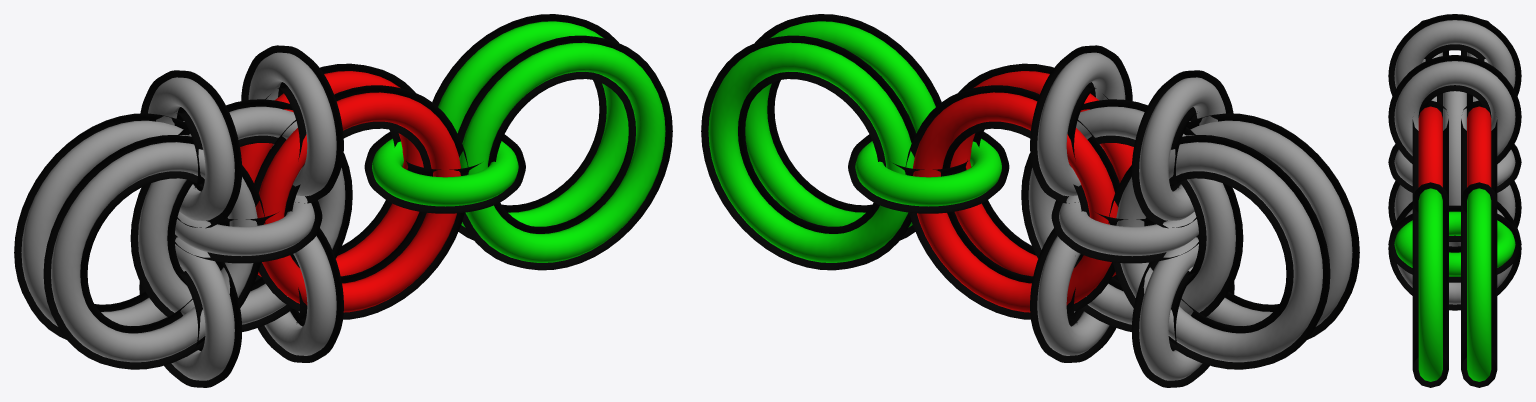
The model's file is heltic_step_04.glb.
3 views of the same model, side by side, from view 1: azimuth 30°, elevation 25°; view 2: azimuth 150°, elevation 25°; view 3: azimuth 270°, elevation 25° (orthographic). The views are drawn at different scales.
Parts seen in each view (by area): view 1: Torus.012, Torus.003, Torus.004, Torus.008, Torus.013, Torus.002, Torus.006, Torus.005, Torus.011, Torus.009, Torus.001, Torus.010 (+1 smaller); view 2: Torus.013, Torus.002, Torus.001, Torus.008, Torus.012, Torus.003, Torus.006, Torus.005, Torus.011, Torus.009, Torus.004, Torus.010 (+1 smaller); view 3: Torus.012, Torus.013, Torus.005, Torus.006, Torus.011, Torus.001, Torus.004, Torus.008, Torus.010, Torus.007, Torus.009.
Boxes of the visible parts, left/top/right/bottom form: Torus.012: left=457, top=35, right=672, bottom=270; Torus.003: left=43, top=135, right=265, bottom=369; Torus.004: left=254, top=85, right=468, bottom=319; Torus.008: left=130, top=99, right=352, bottom=331; Torus.013: left=432, top=14, right=628, bottom=240; Torus.002: left=14, top=113, right=187, bottom=339; Torus.006: left=140, top=70, right=242, bottom=228; Torus.005: left=241, top=45, right=343, bottom=203; Torus.011: left=364, top=132, right=525, bottom=213; Torus.009: left=139, top=237, right=242, bottom=387; Torus.001: left=240, top=63, right=423, bottom=280; Torus.010: left=257, top=228, right=343, bottom=362; Torus.013: left=701, top=35, right=916, bottom=270; Torus.002: left=1108, top=135, right=1330, bottom=369; Torus.001: left=905, top=85, right=1119, bottom=319; Torus.008: left=1021, top=99, right=1243, bottom=331; Torus.012: left=745, top=14, right=941, bottom=240; Torus.003: left=1186, top=113, right=1359, bottom=339; Torus.006: left=1131, top=70, right=1233, bottom=228; Torus.005: left=1030, top=45, right=1132, bottom=203; Torus.011: left=848, top=132, right=1009, bottom=213; Torus.009: left=1131, top=237, right=1234, bottom=387; Torus.004: left=950, top=63, right=1133, bottom=280; Torus.010: left=1030, top=228, right=1116, bottom=362; Torus.012: left=1412, top=182, right=1448, bottom=387; Torus.013: left=1461, top=182, right=1497, bottom=387; Torus.005: left=1388, top=55, right=1521, bottom=163; Torus.006: left=1388, top=14, right=1521, bottom=95; Torus.011: left=1388, top=205, right=1521, bottom=282; Torus.001: left=1461, top=100, right=1497, bottom=199; Torus.004: left=1412, top=100, right=1448, bottom=199; Torus.008: left=1437, top=91, right=1472, bottom=246; Torus.010: left=1388, top=201, right=1521, bottom=310; Torus.007: left=1388, top=144, right=1521, bottom=192; Torus.009: left=1388, top=181, right=1521, bottom=227.
Bounding box in the file's own units: 9.8 × 4.6 × 2.2.
